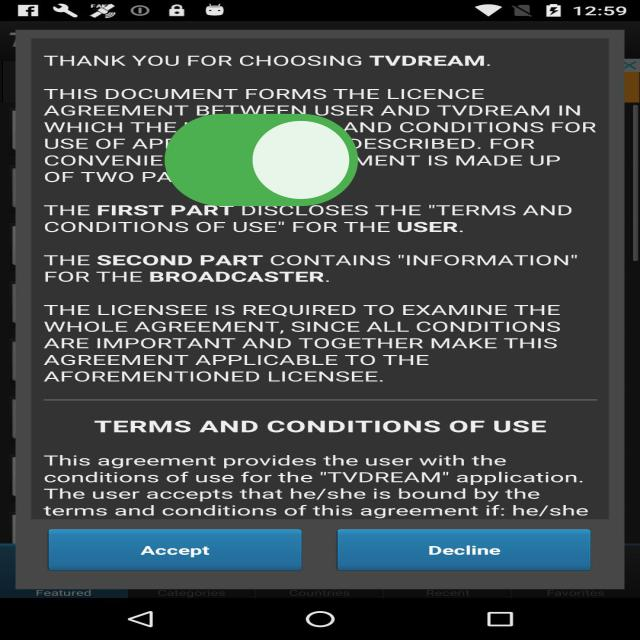social proof: (156, 78, 367, 249)
